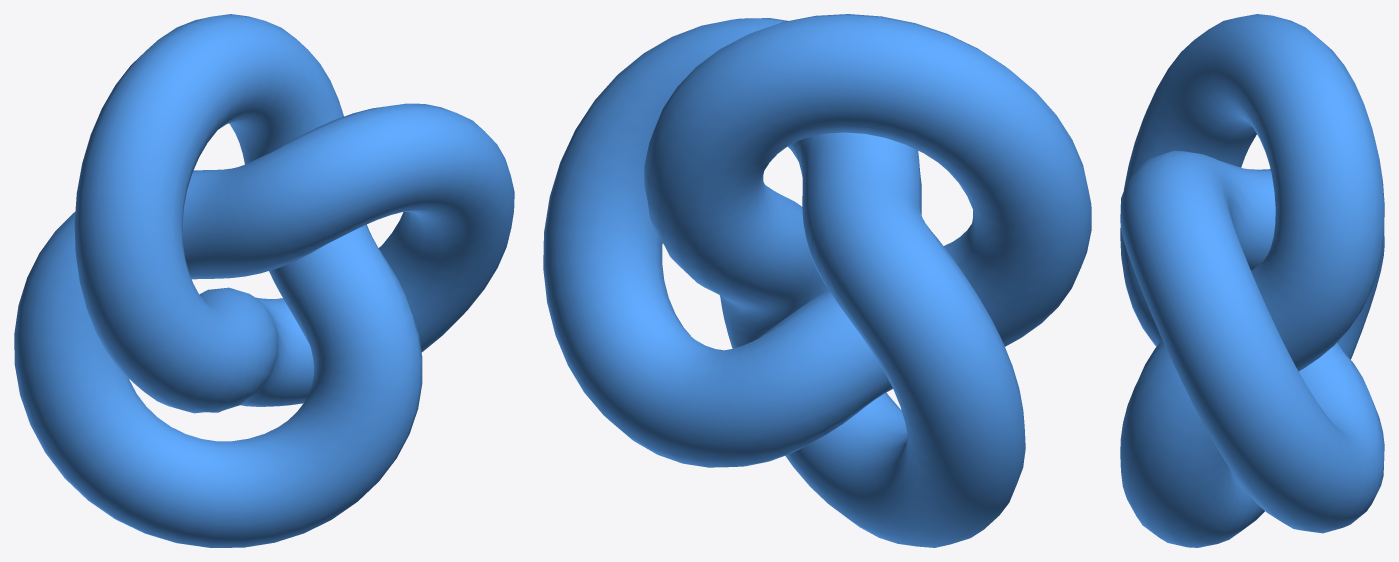
File: knot.glb
3 renders of one model, left to right at view 1: azimuth 30°, elevation 25°; view 2: azimuth 150°, elevation 25°; view 3: azimuth 270°, elevation 25°, orthographic. The views are drawn at different scales.
Visible parts, largest first — view 1: knot; view 2: knot; view 3: knot.
Part boxes in pixels (box(x1,y1,x2,y2)): knot: box(14, 14, 514, 547); knot: box(543, 14, 1091, 547); knot: box(1120, 14, 1384, 547).
Size of the model in its own units: 1.53 by 1.59 by 0.7656.
